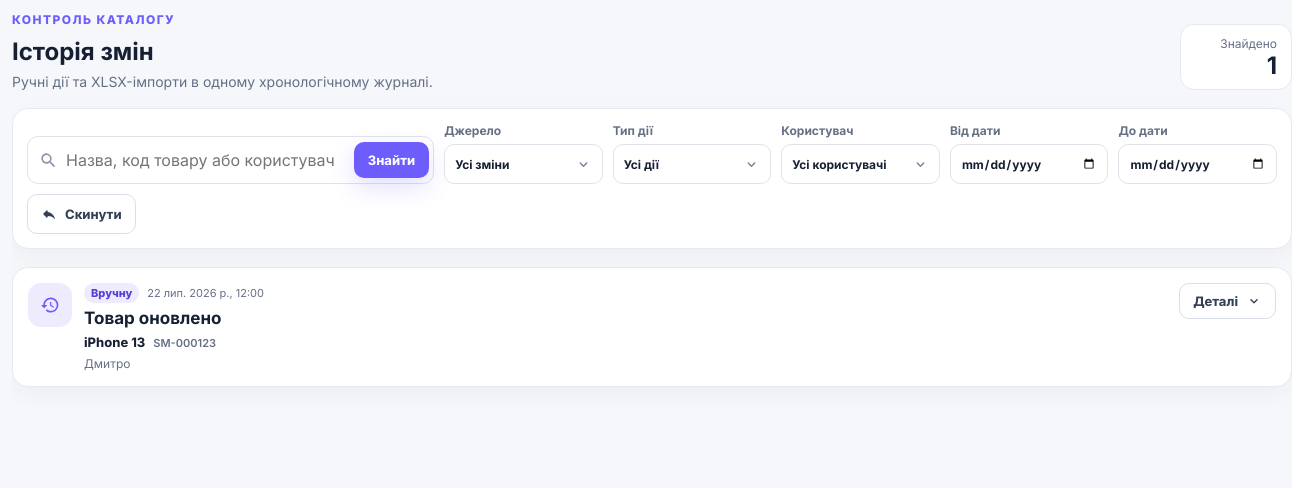
it: CatalogAuditPage › shows exact before and after values for a manual change
Expected: the heading "Товар оновлено" is shown, [84,308,222,328]
Click the button "Деталі": (1228, 301) [1179,283,1276,319]
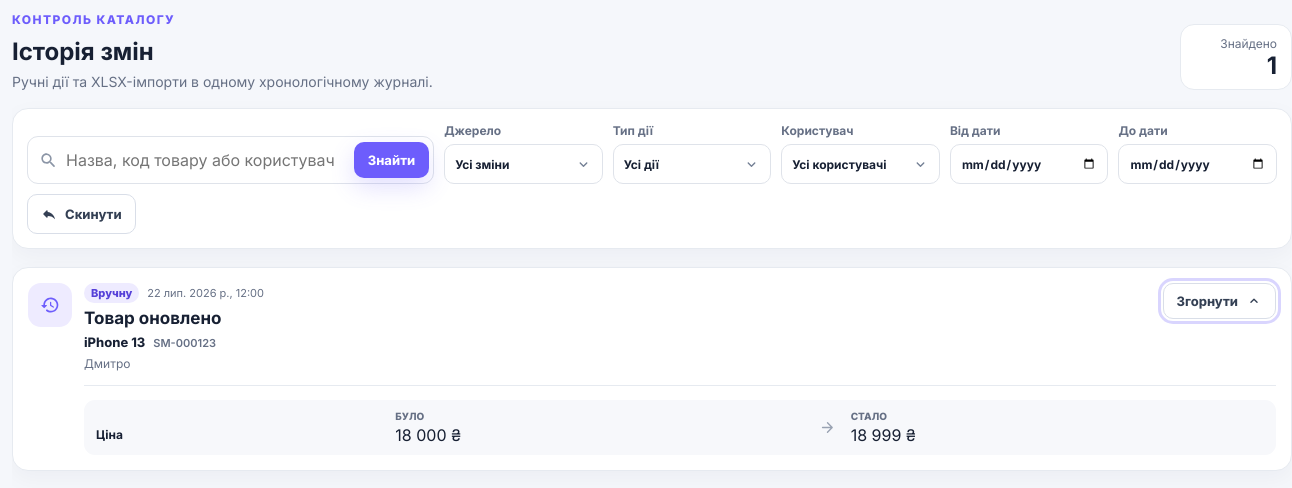
Result: the text "Ціна" is shown at [96,427,123,442]
Result: the text "18 000 ₴" is shown at [395,425,461,445]
Result: the text "18 999 ₴" is shown at [851,425,916,445]
